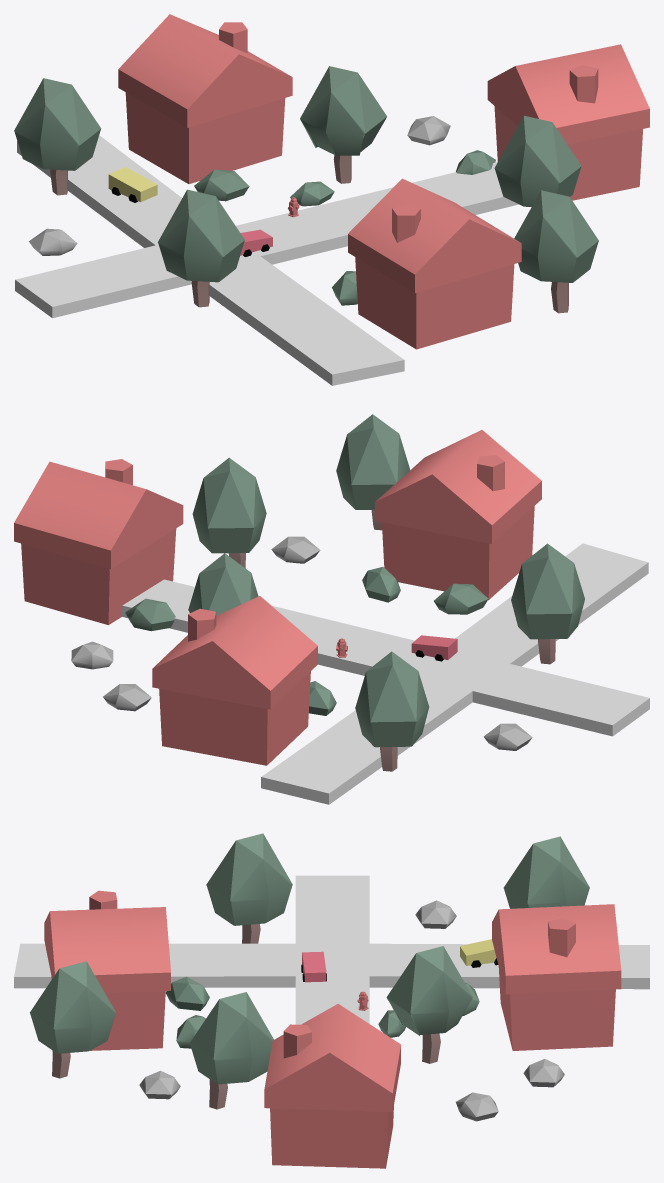
Rendered from low_density.fbx.
3 renders of one model, top to bottom at view 1: azimuth 30°, elevation 25°; view 2: azimuth 150°, elevation 25°; view 3: azimuth 270°, elevation 25°, orthographic.
Visible parts, largest first — view 1: polySurface2; view 2: polySurface2; view 3: polySurface2.
Part boxes in pixels (x1,y1,x2,y2): polySurface2: [14, 14, 649, 385]; polySurface2: [14, 414, 649, 804]; polySurface2: [14, 833, 649, 1168].
Size of the model in its own units: 11.9 by 2.29 by 11.23.
